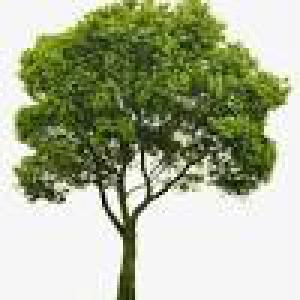Tree: (9, 3, 282, 294)
